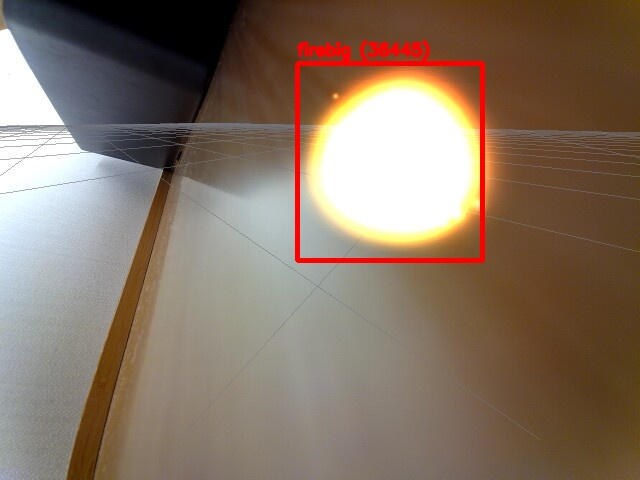firebig: (297, 63, 482, 260)
